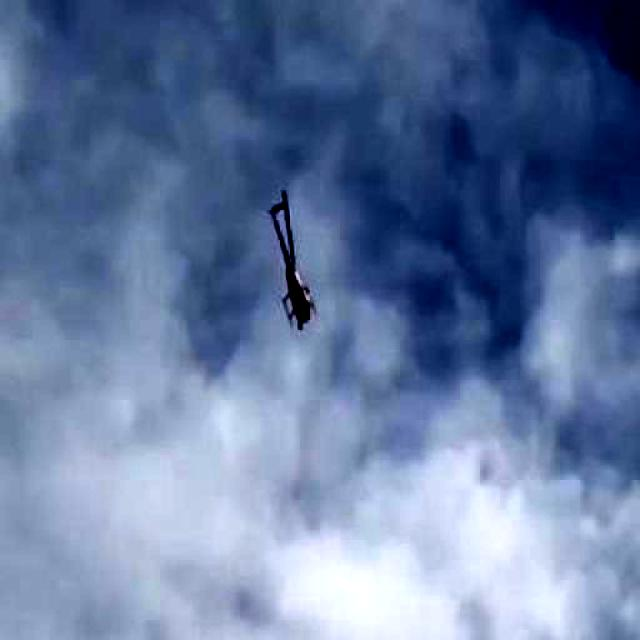drone: (204, 169, 376, 365)
